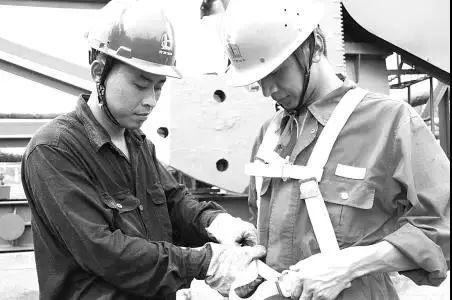helmet: (216, 1, 316, 86), (89, 1, 188, 80)
